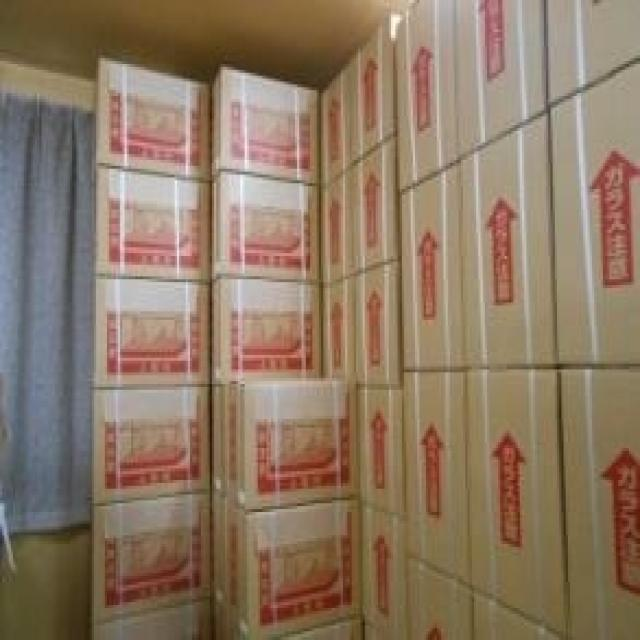box: (548, 58, 640, 369), (467, 369, 568, 637), (459, 111, 557, 369), (559, 369, 640, 640), (225, 500, 363, 640), (223, 375, 358, 512), (90, 492, 212, 625), (402, 369, 472, 593), (92, 61, 210, 180), (90, 387, 210, 503), (94, 166, 212, 282), (457, 0, 544, 157), (398, 160, 463, 369), (92, 279, 212, 387), (395, 0, 459, 198), (210, 67, 319, 183), (210, 172, 321, 282), (212, 276, 321, 384), (544, 0, 640, 108), (358, 500, 408, 640), (356, 390, 406, 518), (354, 134, 398, 279), (354, 259, 402, 387), (363, 12, 402, 157), (408, 556, 472, 640), (90, 599, 214, 640), (474, 591, 570, 640), (319, 172, 354, 288), (321, 276, 358, 378), (336, 49, 363, 172), (321, 73, 343, 183), (212, 497, 227, 608), (282, 620, 365, 640), (210, 387, 221, 500)
